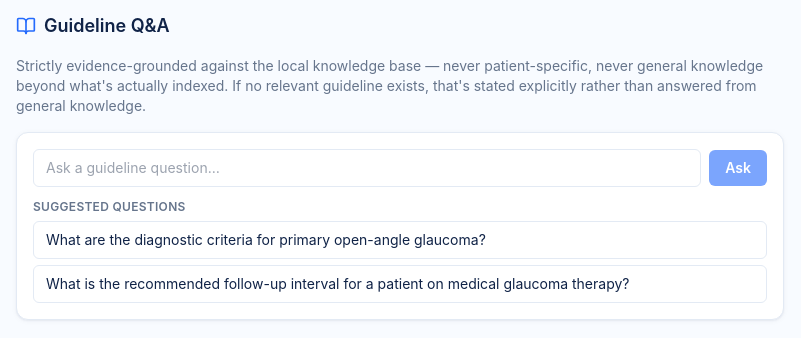
Workflow page — Guideline Q&A › suggested questions actually send a real question
The width and height of the screenshot is (801, 338).
Click the button "What are the diagnostic criteria for primary open-angle glaucoma?" at (400, 240), box [33,221,767,259]
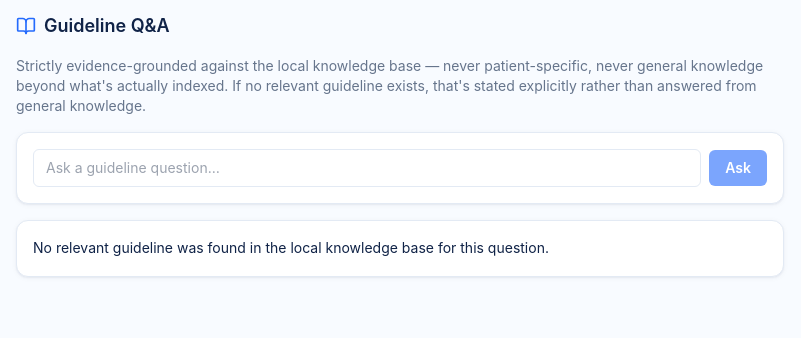
Expected: the text "No relevant guideline was found" is shown, [33,239,549,256]
